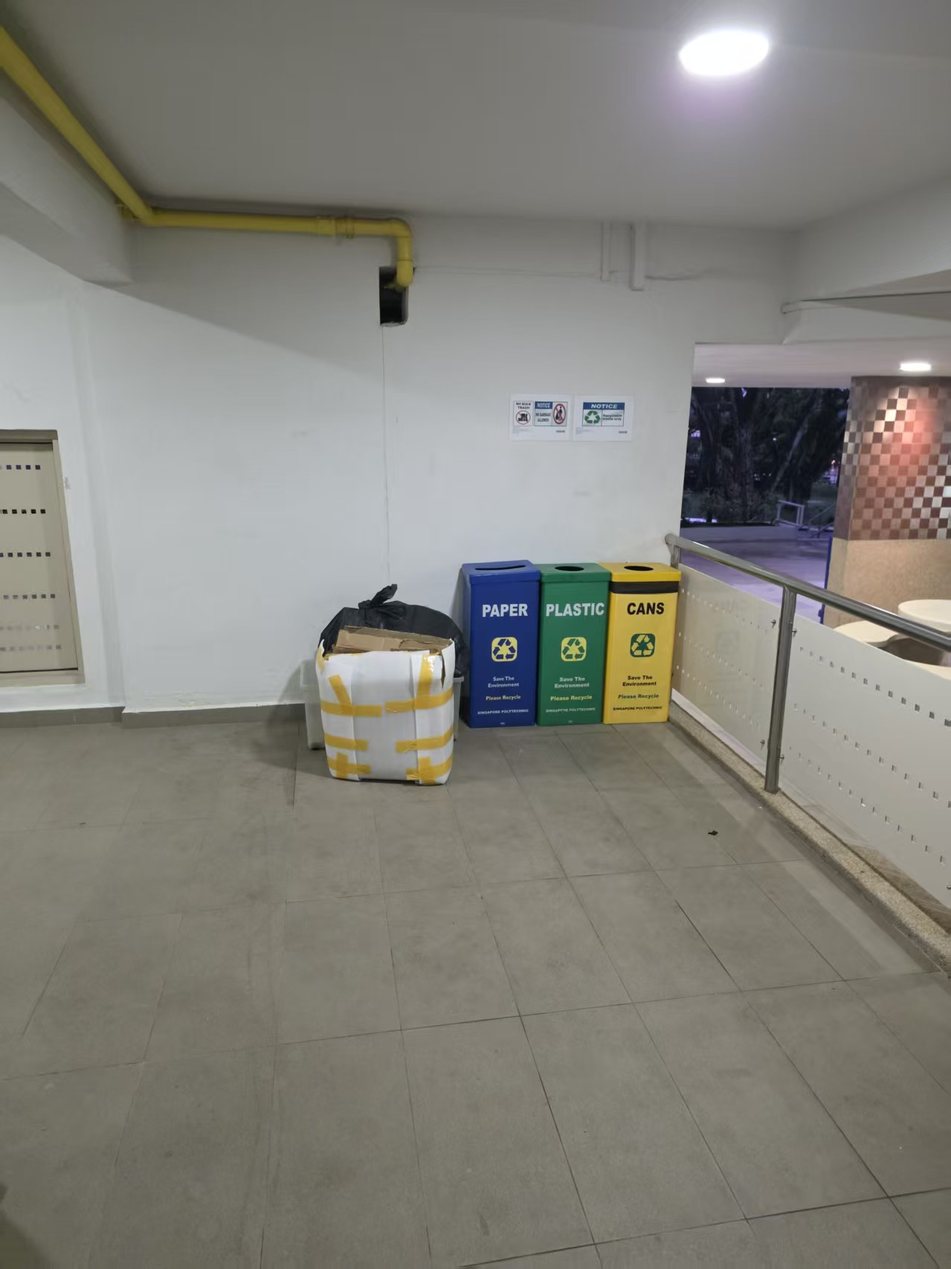bin_empty: (462, 559, 541, 727), (602, 563, 680, 724), (535, 562, 610, 726)
bulk_waste: (315, 643, 454, 785), (320, 584, 468, 675), (331, 626, 454, 654)
